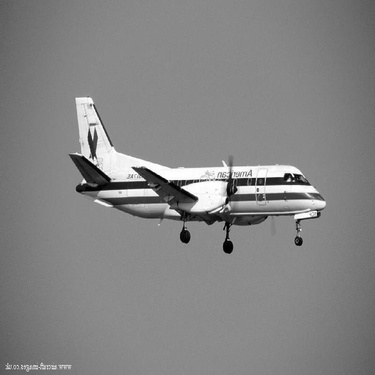airplane: (48, 92, 327, 252)
